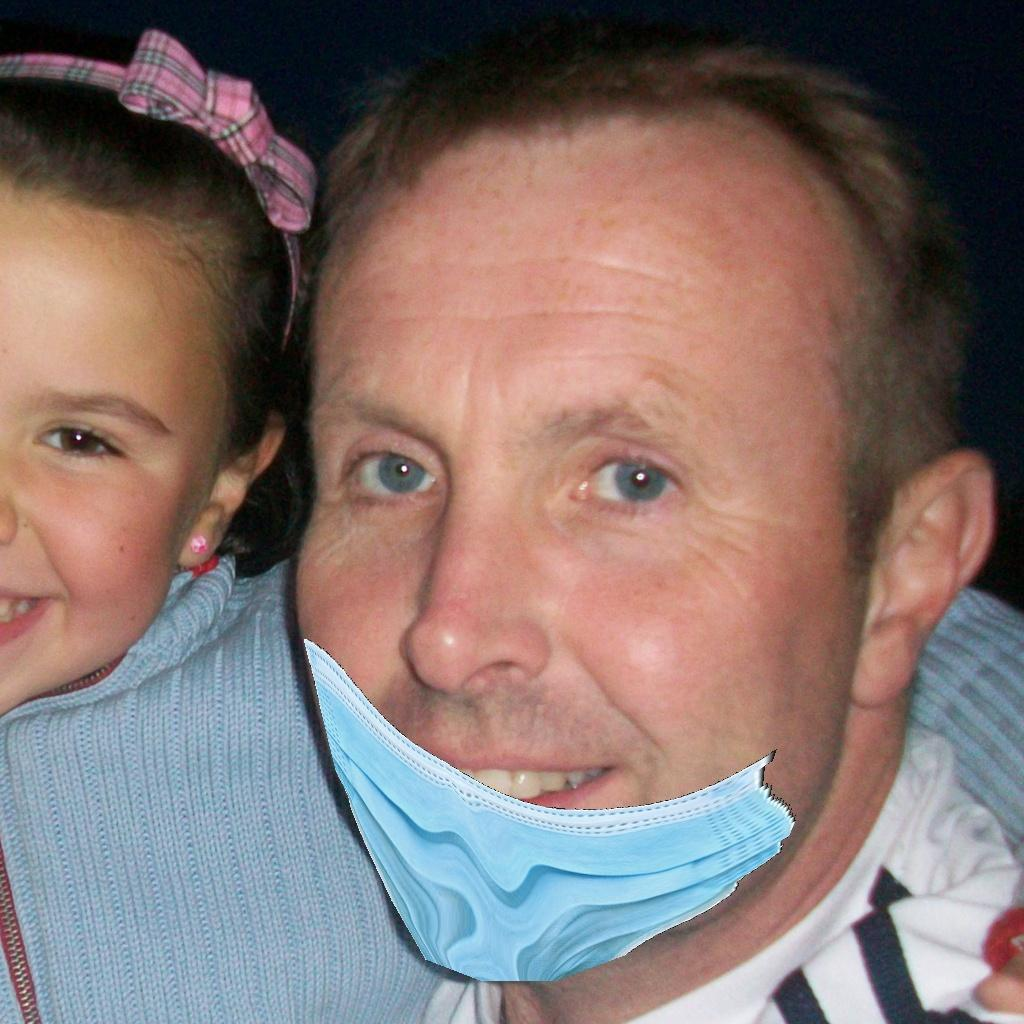Máscara Incorreta: (286, 339, 852, 934)
Sem Máscara: (0, 301, 179, 694)
